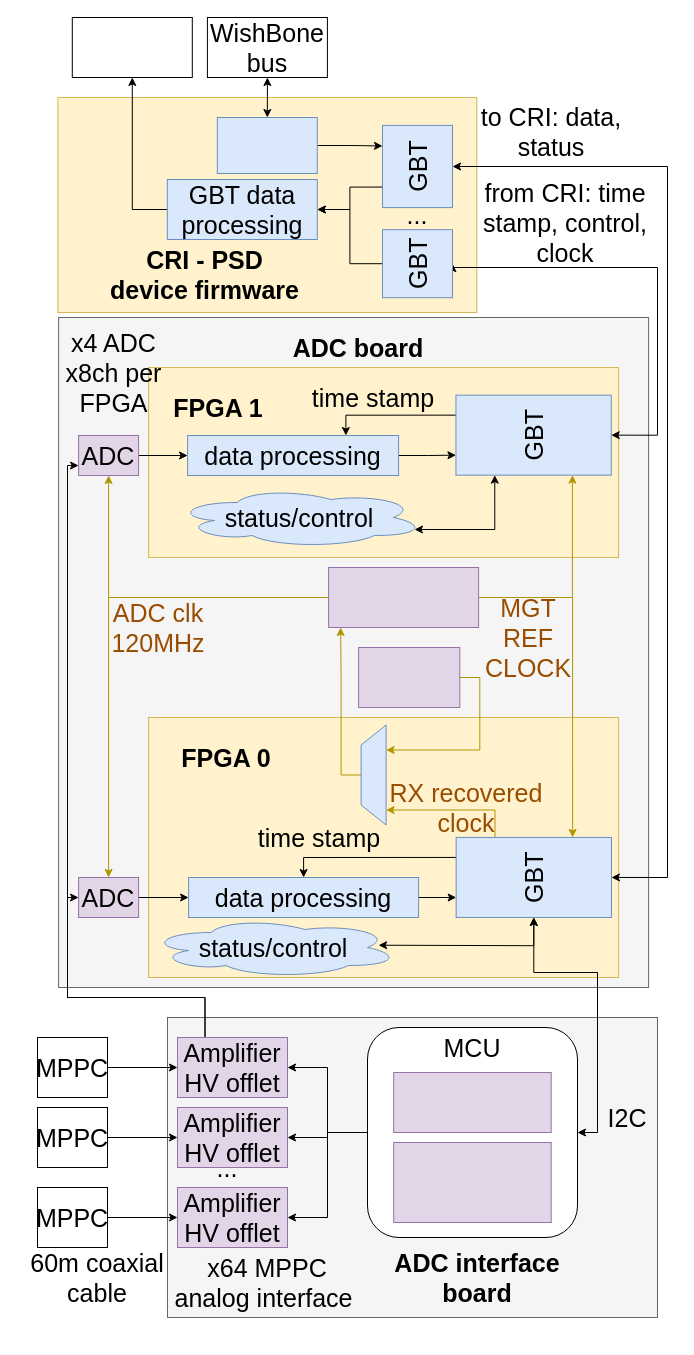
This 694x1355 diagram has some shape labels left out. The centre of each missing label's shape, as x and y in pixels:
"channels HV offset" belongs at point (472, 1102).
"control" belongs at point (266, 145).
"MPPC temperature monitor" belongs at point (472, 1182).
"PCIe" belongs at point (131, 47).
"PLL JITTER CLEANER" belongs at point (403, 597).
"START CLOCK" belongs at point (409, 677).
